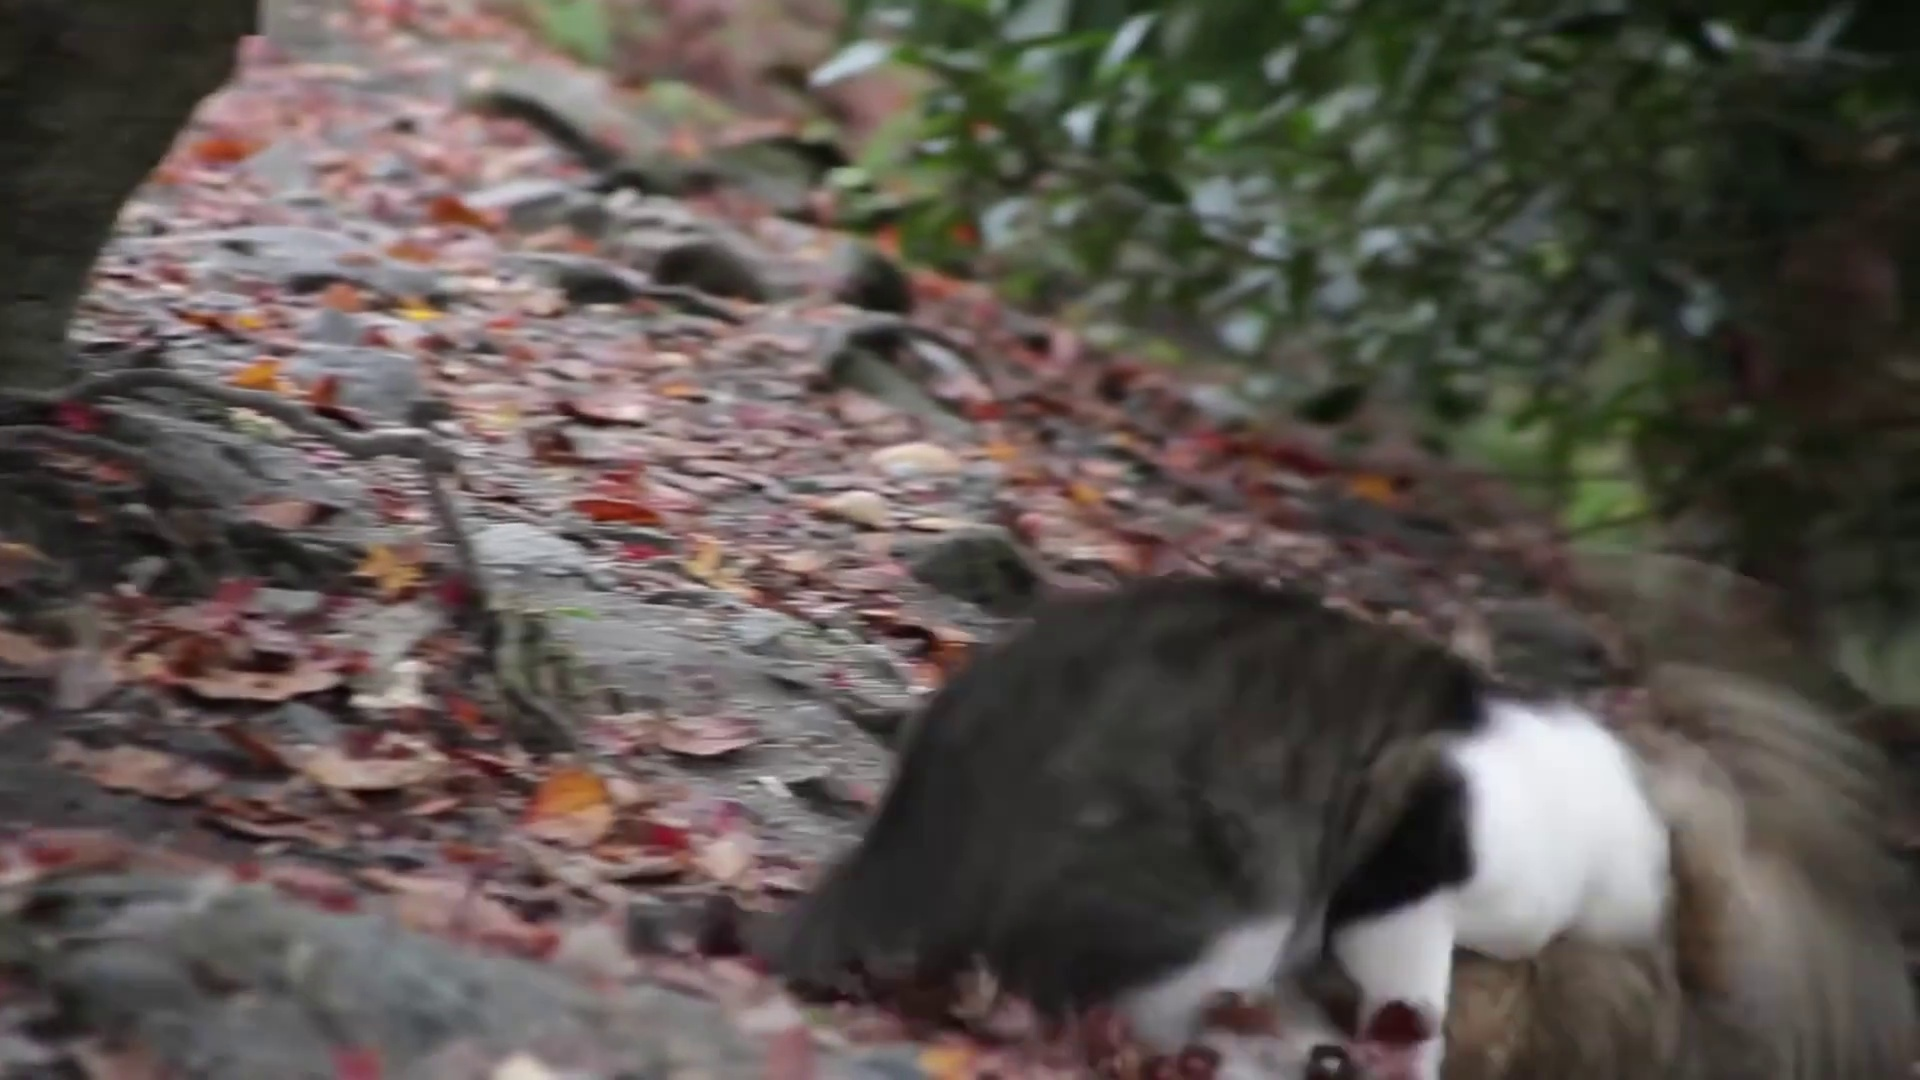black-white: (782, 571, 1665, 1015)
pure black: (1437, 663, 1917, 1080)
